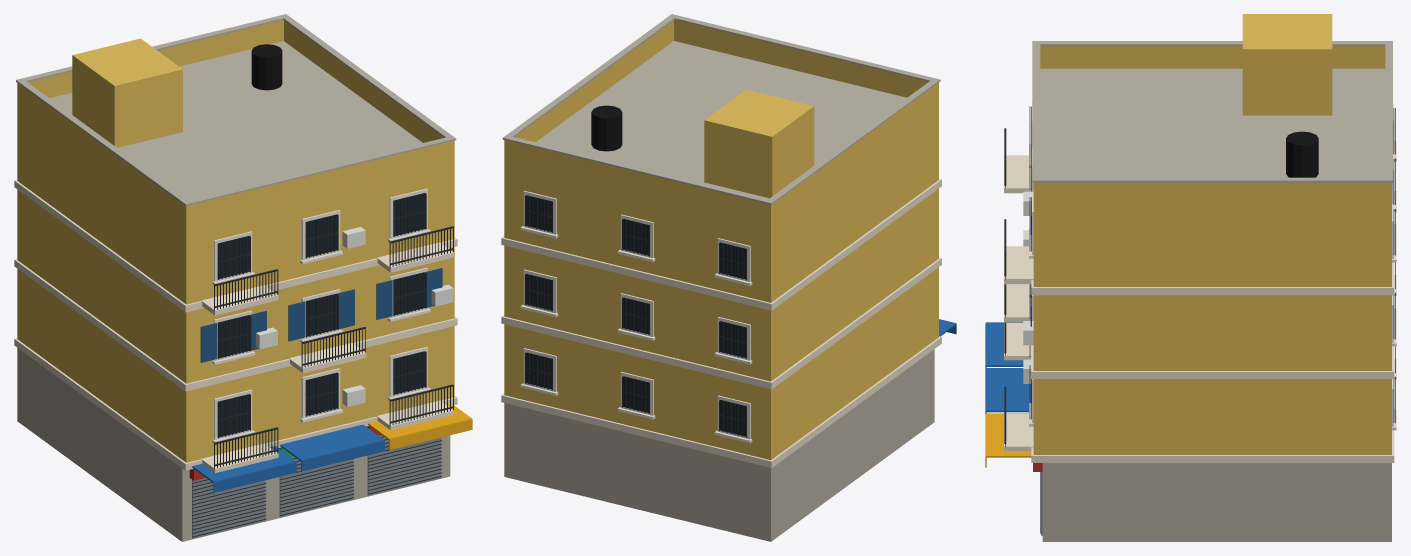
Rendered from immeuble_medina.glb.
The picture shows the model from 3 angles, left to right: view 1: azimuth 30°, elevation 25°; view 2: azimuth 150°, elevation 25°; view 3: azimuth 270°, elevation 25°; orthographic projection. The views are drawn at different scales.
Parts seen in each view (by area): view 1: immeuble_medina; view 2: immeuble_medina; view 3: immeuble_medina.
Boxes of the visible parts, x1,y1,x2,y2 form: immeuble_medina: [14, 14, 472, 541]; immeuble_medina: [501, 14, 956, 541]; immeuble_medina: [985, 14, 1396, 541].
Size of the model in its own units: 11.16 by 14.9 by 13.78.
